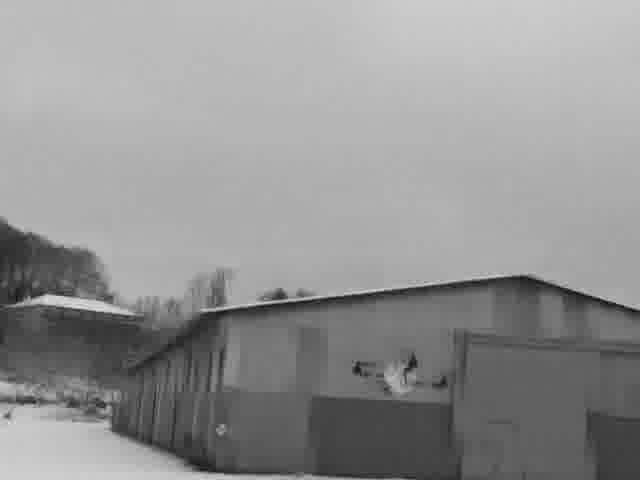drone: (343, 348, 455, 404)
